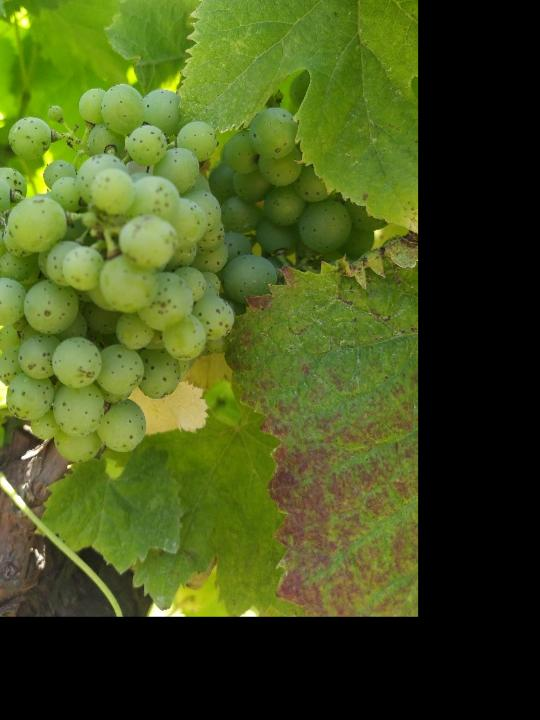grape: (0, 80, 285, 467)
